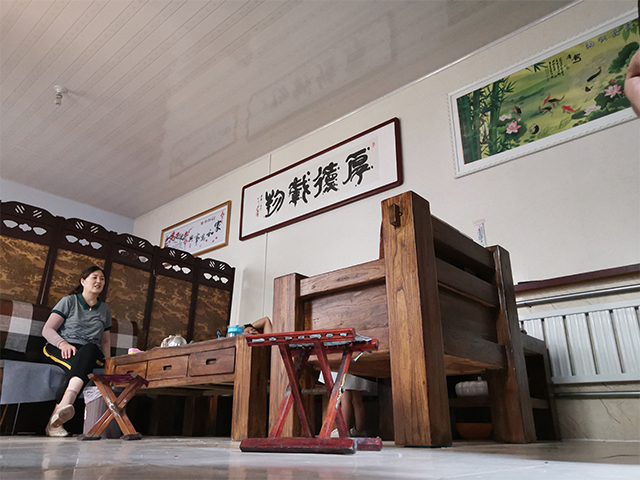sofa: (267, 186, 564, 449), (1, 298, 144, 437)
stool: (238, 325, 384, 456), (77, 369, 151, 442)
table: (101, 331, 272, 442)
trashcan: (80, 384, 126, 440)
